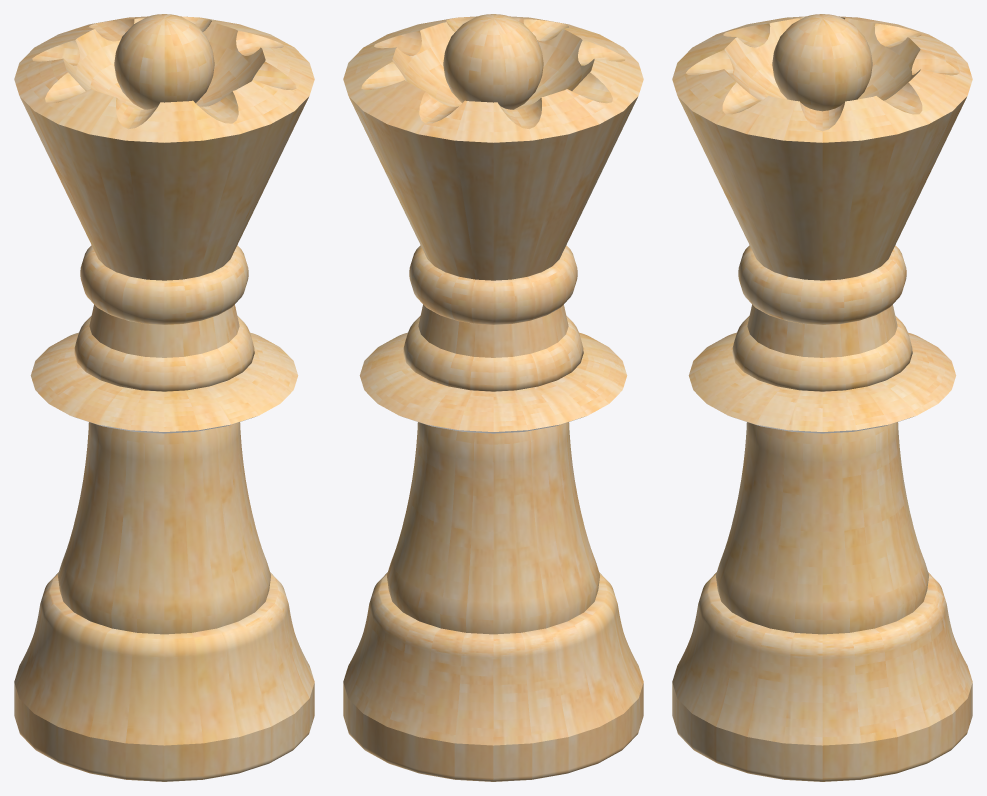
Rendered from Queen_w.dae.
The picture shows the model from 3 angles, left to right: view 1: azimuth 30°, elevation 25°; view 2: azimuth 150°, elevation 25°; view 3: azimuth 270°, elevation 25°; orthographic projection.
Parts seen in each view (by area): view 1: SketchUp (×3); view 2: SketchUp (×3); view 3: SketchUp (×3).
Part boxes in pixels (box(x1,y1,x2,y2)): SketchUp (×3): box(14, 14, 314, 781); SketchUp (×3): box(343, 14, 643, 781); SketchUp (×3): box(672, 14, 972, 781).
Size of the model in its own units: 23.62 by 23.62 by 60.78.
2 materials, 1 textured.
